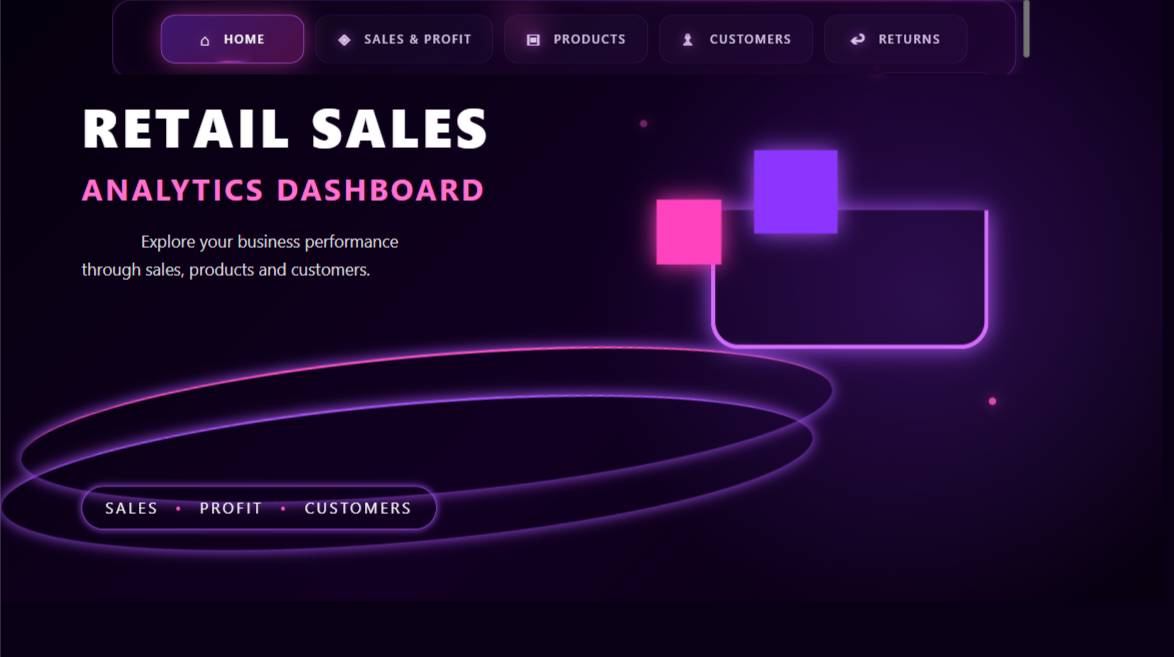

The page's visual inventory and layout, read from the dashboard file:
{"tool":"powerbi","page":{"name":"Home","canvas":[1280,720],"ordinal":0},"visuals":[{"type":"textStylerD577C9FF21FB4883A1CE1335C340B54F","fields":{"measure":["supplier.Animated Dashboard"]},"box":[0,0,1279.7,720.3],"z":0},{"type":"textStylerD577C9FF21FB4883A1CE1335C340B54F","fields":{"measure":["supplier.Page Navigator"]},"box":[122,0,1000,89.8],"z":1000},{"type":"actionButton","box":[910.9,24.6,138,49.1],"z":4000},{"type":"pageNavigator","box":[170,22.7,730.3,50.2],"z":4001}]}

Visuals, with their boxes in screenshot pixels (x1, y1, x2, y2), scaled from the page's 1280x720 canvas onto the 1174x657 screenshot:
textStylerD577C9FF21FB4883A1CE1335C340B54F - supplier.Animated Dashboard: (0, 0, 1173, 656)
textStylerD577C9FF21FB4883A1CE1335C340B54F - supplier.Page Navigator: (112, 0, 1029, 82)
actionButton: (835, 22, 962, 67)
pageNavigator: (156, 21, 826, 67)
